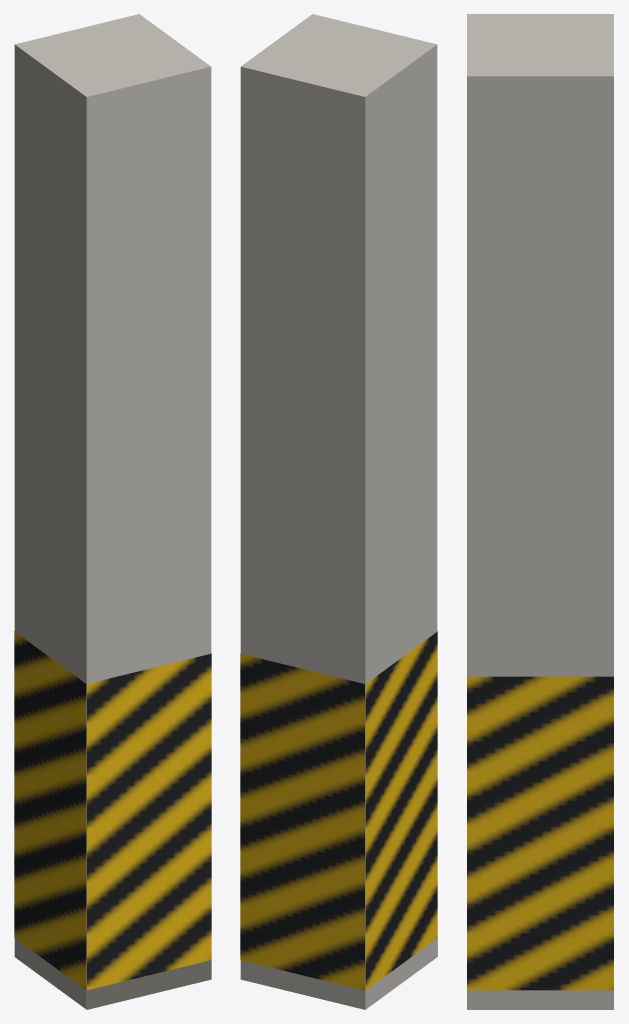
The model's file is SC_Bld_Villa_Pilotis_Column.gltf.
3 views of the same model, side by side, from view 1: azimuth 30°, elevation 25°; view 2: azimuth 150°, elevation 25°; view 3: azimuth 270°, elevation 25° (orthographic). The views are drawn at different scales.
Visible parts, largest first — view 1: SC_Bld_Villa_Pilotis_Column; view 2: SC_Bld_Villa_Pilotis_Column; view 3: SC_Bld_Villa_Pilotis_Column.
Part boxes in pixels (x1,y1,x2,y2): SC_Bld_Villa_Pilotis_Column: (14,14,211,1009); SC_Bld_Villa_Pilotis_Column: (240,14,437,1009); SC_Bld_Villa_Pilotis_Column: (467,14,613,1009).
Bounding box in the file's own units: 0.403 × 2.8 × 0.403.
Materials: 2 (2 with a texture image).
